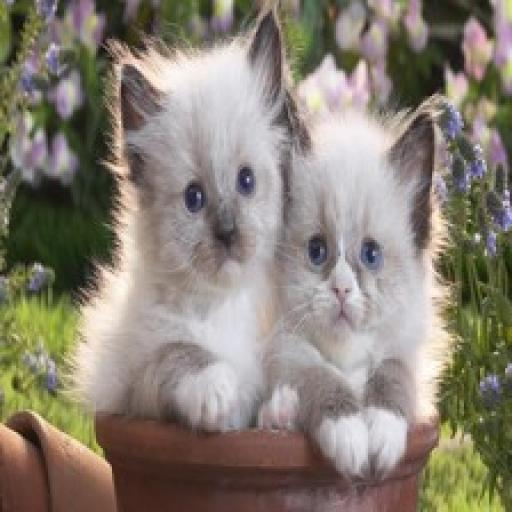cat: (79, 8, 291, 434), (282, 94, 450, 484)
